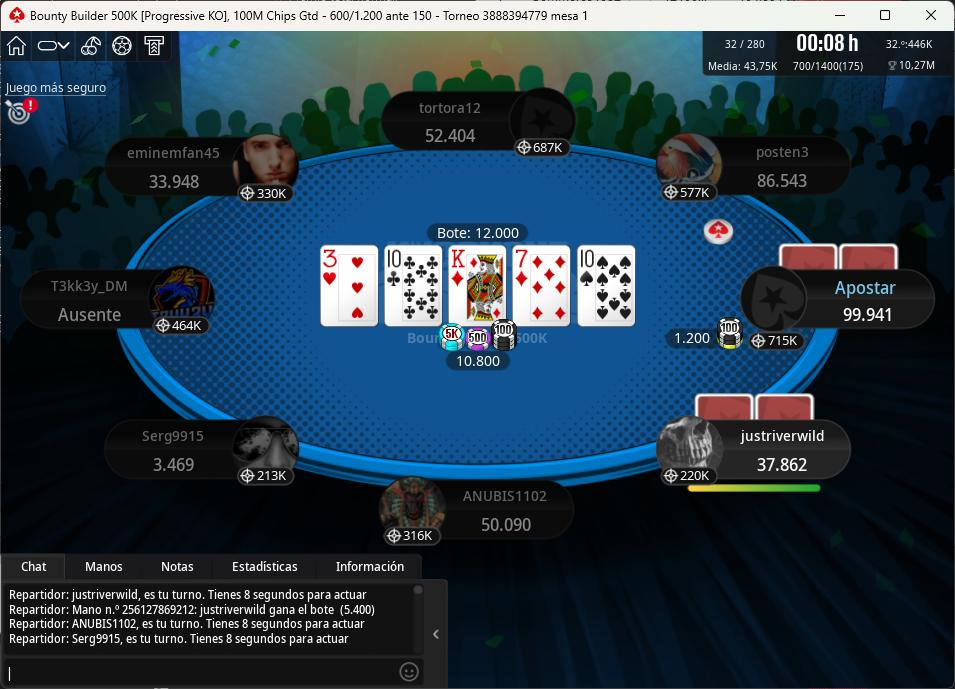Dealer: (703, 215, 734, 246)
HiddenCards: (692, 391, 815, 421), (779, 238, 898, 268)
Player: (378, 472, 578, 550), (654, 129, 851, 204), (99, 415, 303, 485), (20, 264, 218, 333), (652, 415, 852, 482), (382, 86, 573, 156), (743, 265, 937, 332), (107, 136, 299, 201)
PlayerBet: (666, 315, 751, 355)
PlayerChips: (53, 302, 129, 325), (750, 170, 818, 192), (841, 304, 901, 327), (414, 126, 482, 146), (756, 452, 813, 475), (475, 514, 537, 535), (149, 450, 198, 475), (147, 173, 208, 193)
Pot: (428, 219, 529, 243)
ShowedCards: (318, 243, 642, 331)
ShowedCards1: (318, 243, 384, 328)
ShowedCards2: (384, 245, 447, 329)
ShowedCards3: (446, 245, 511, 328)
ShowedCards4: (510, 246, 573, 330)
ShowedCards5: (575, 242, 636, 325)
SmallBigBlind: (322, 7, 442, 28)
TablePot: (434, 325, 523, 370)
